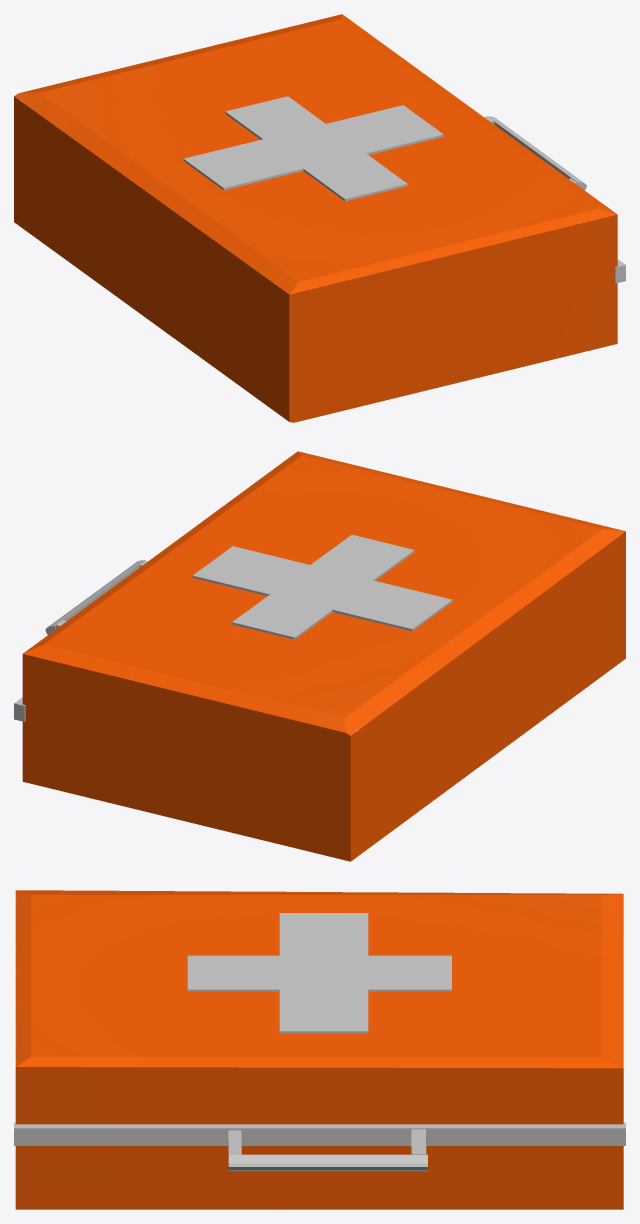
Rendered from MediPack.obj.
3 views of the same model, one above another, from view 1: azimuth 30°, elevation 25°; view 2: azimuth 150°, elevation 25°; view 3: azimuth 270°, elevation 25° (orthographic). The views are drawn at different scales.
Visible parts, largest first — view 1: Cube, Cube.007, Cube.006; view 2: Cube, Cube.007, Cube.006; view 3: Cube, Cube.007, Cube.003, Cube.006.
Boxes of the visible parts, x1=… form: Cube: x1=14, y1=14, x2=617, y2=422; Cube.007: x1=183, y1=96, x2=443, y2=201; Cube.006: x1=487, y1=116, x2=586, y2=190; Cube: x1=22, y1=451, x2=625, y2=861; Cube.007: x1=192, y1=534, x2=452, y2=639; Cube.006: x1=45, y1=560, x2=145, y2=634; Cube: x1=15, y1=890, x2=623, y2=1209; Cube.007: x1=187, y1=913, x2=451, y2=1033; Cube.003: x1=14, y1=1122, x2=625, y2=1145; Cube.006: x1=228, y1=1154, x2=427, y2=1171.
Bounding box in the file's own units: 2.4 × 0.8099 × 2.93.
Materials: 2 (1 with a texture image).
